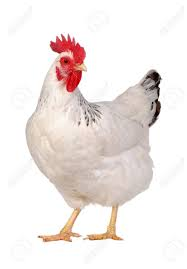chicken: (11, 29, 175, 254)
